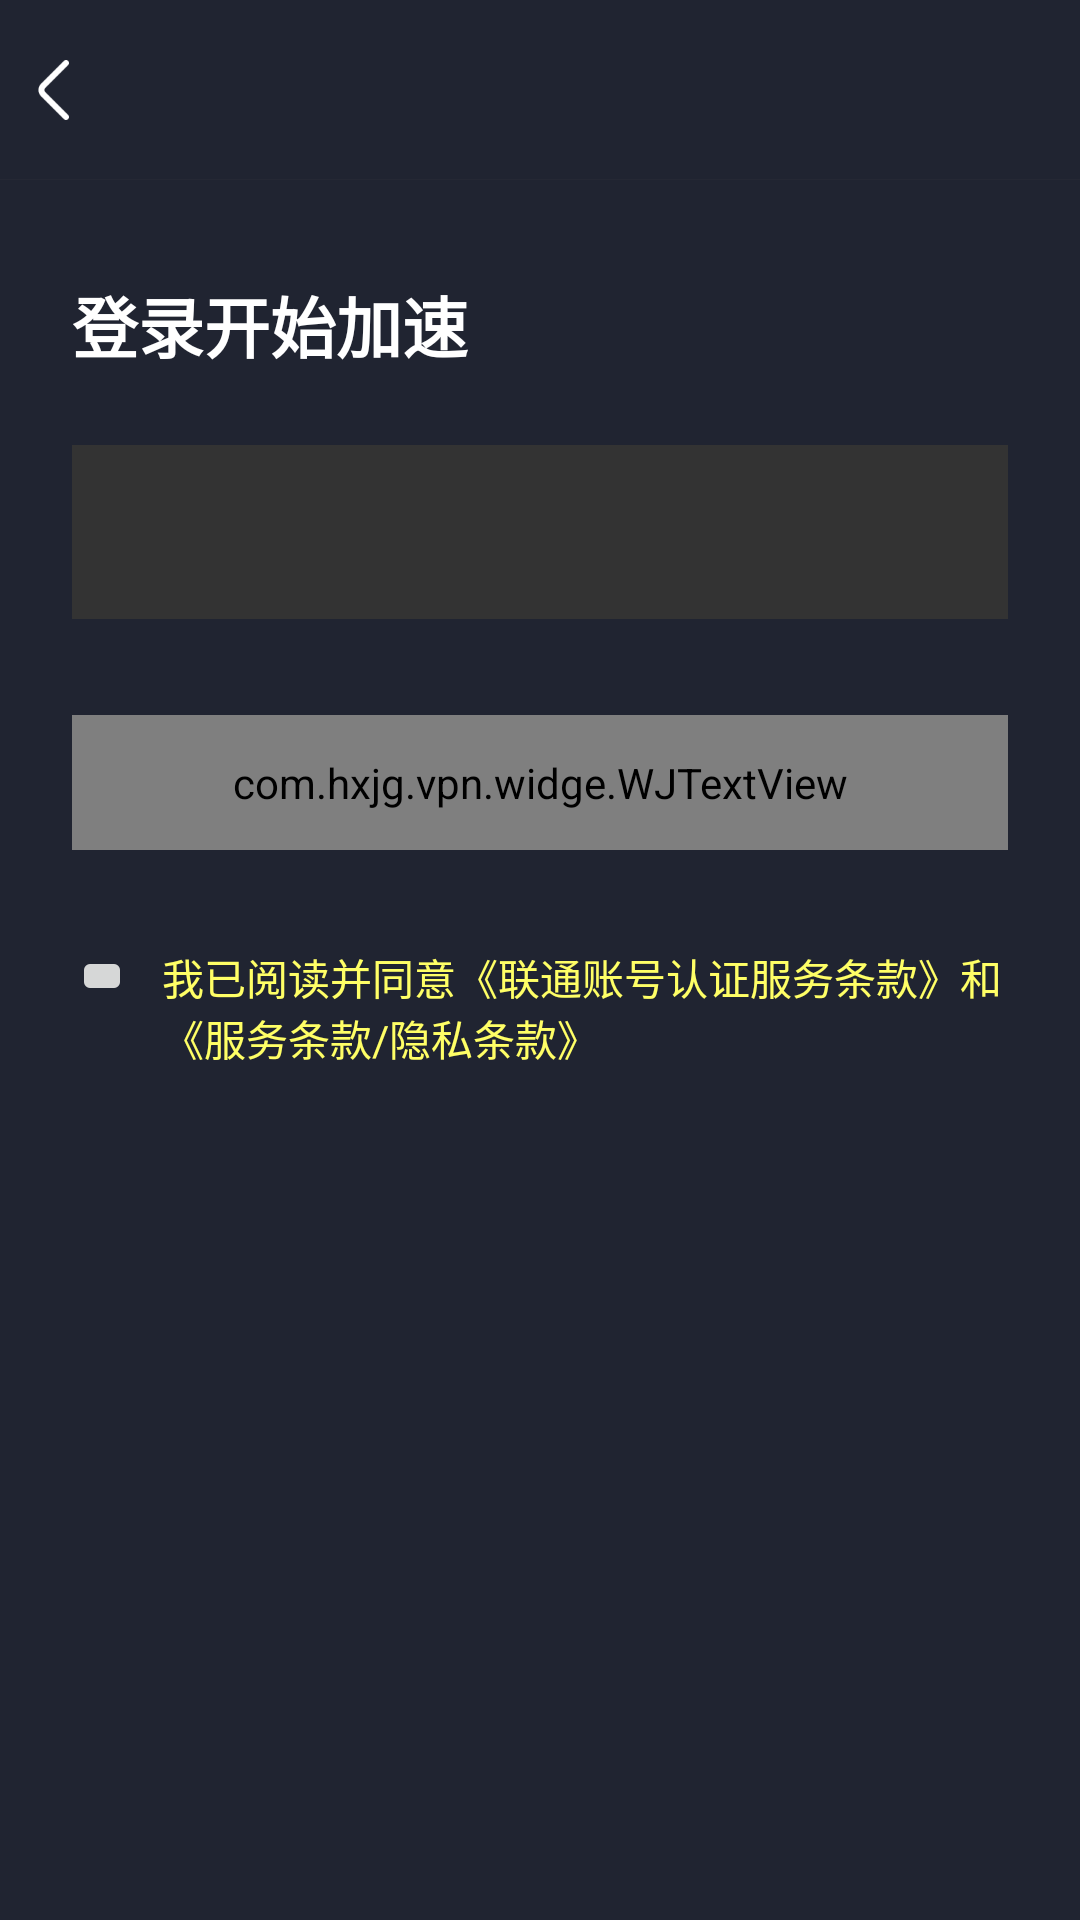

Icons on this 1080*1920 Android screen, each with the point to tap as point (x, y):
back row: point (53, 90)
